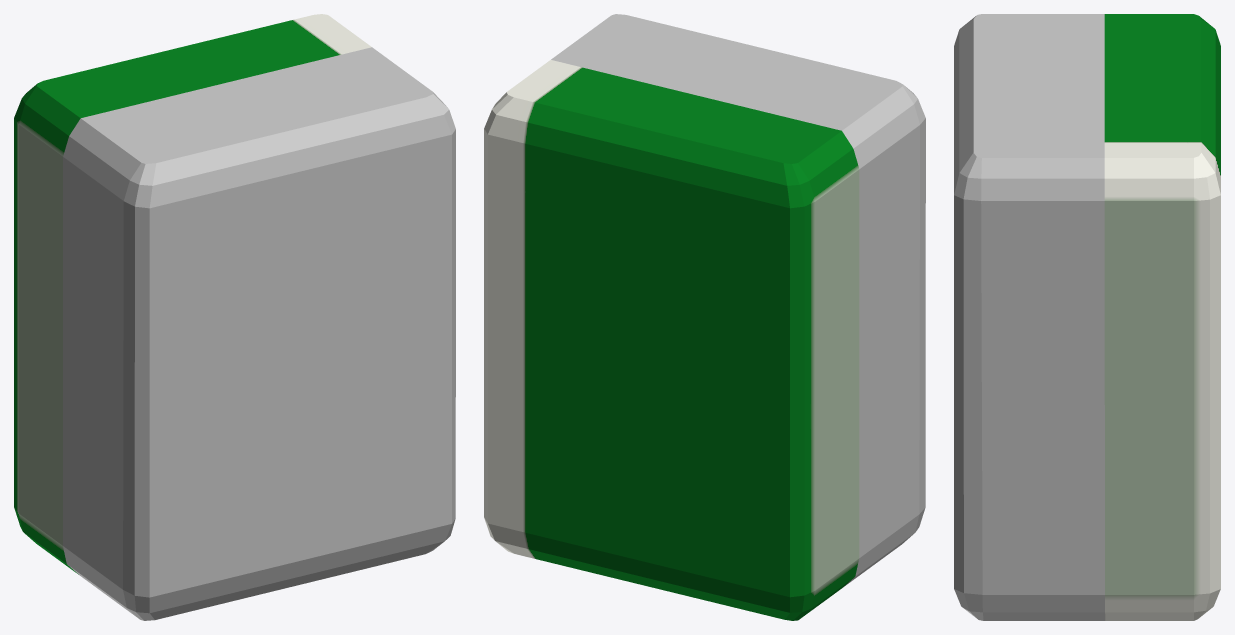
Rendered from pai.FBX.
3 renders of one model, left to right at view 1: azimuth 30°, elevation 25°; view 2: azimuth 150°, elevation 25°; view 3: azimuth 270°, elevation 25°, orthographic.
Visible parts, largest first — view 1: pai; view 2: pai; view 3: pai.
Part boxes in pixels (x1=…): pai: x1=14, y1=14, x2=455, y2=620; pai: x1=484, y1=14, x2=925, y2=620; pai: x1=954, y1=14, x2=1220, y2=620.
Size of the model in its own units: 2.72 by 3.65 by 1.91.
